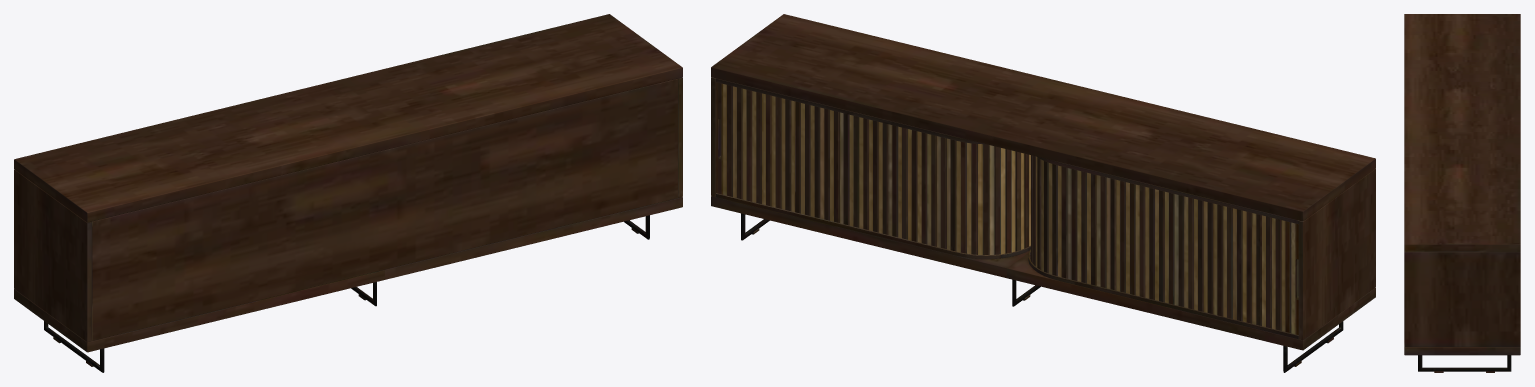
Rendered from modern_wooden_cabinet.glb.
3 views of the same model, side by side, from view 1: azimuth 30°, elevation 25°; view 2: azimuth 150°, elevation 25°; view 3: azimuth 270°, elevation 25° (orthographic). The views are drawn at different scales.
Visible parts, largest first — view 1: modern_wooden_cabinet_body; view 2: modern_wooden_cabinet_body, modern_wooden_cabinet_door_l; view 3: modern_wooden_cabinet_body.
Boxes of the visible parts, x1=… form: modern_wooden_cabinet_body: x1=14, y1=14, x2=682, y2=372; modern_wooden_cabinet_body: x1=711, y1=14, x2=1375, y2=372; modern_wooden_cabinet_door_l: x1=717, y1=82, x2=1298, y2=334; modern_wooden_cabinet_body: x1=1404, y1=14, x2=1520, y2=372.
Size of the model in its own units: 1 by 0.2787 by 0.2131.
Materials: 1 (1 with a texture image).
